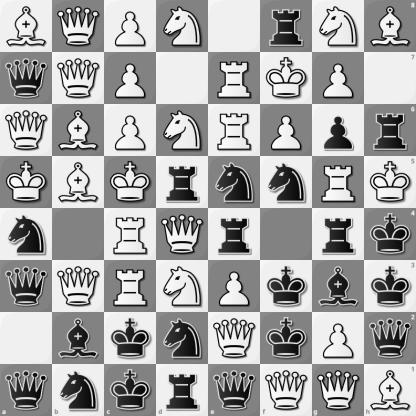B: (364, 0, 416, 52), (364, 364, 416, 416), (1, 1, 52, 52), (53, 105, 104, 156), (53, 157, 104, 208)
K: (364, 156, 416, 209), (1, 157, 52, 208), (105, 157, 156, 208), (261, 53, 312, 104)
N: (157, 1, 208, 52), (157, 105, 208, 156), (157, 261, 208, 312), (313, 1, 364, 52)
P: (105, 1, 156, 52), (105, 53, 156, 104), (105, 105, 156, 156), (209, 261, 260, 312), (261, 105, 312, 156), (313, 53, 364, 104), (313, 313, 364, 364)
Q: (260, 364, 312, 416), (312, 364, 364, 416), (1, 105, 52, 156), (53, 1, 104, 52), (53, 53, 104, 104), (53, 261, 104, 312), (157, 209, 208, 260), (209, 313, 260, 364)
R: (105, 209, 156, 260), (105, 261, 156, 312), (209, 53, 260, 104), (209, 105, 260, 156), (313, 157, 364, 208)
b: (53, 313, 104, 364), (313, 261, 364, 312)
board: (0, 0, 415, 415)
k: (104, 364, 156, 416), (364, 260, 416, 312), (364, 209, 416, 260), (105, 313, 156, 364), (261, 261, 312, 312), (261, 313, 312, 364)
n: (52, 364, 104, 416), (1, 209, 52, 260), (157, 313, 208, 364), (209, 157, 260, 208), (261, 157, 312, 208)
p: (313, 105, 364, 156)
q: (0, 364, 52, 416), (364, 312, 416, 364), (209, 364, 260, 416), (1, 53, 52, 104), (1, 261, 52, 312)
r: (156, 364, 209, 416), (364, 104, 416, 156), (157, 157, 208, 208), (209, 209, 260, 260), (261, 1, 312, 52), (313, 209, 364, 260)
